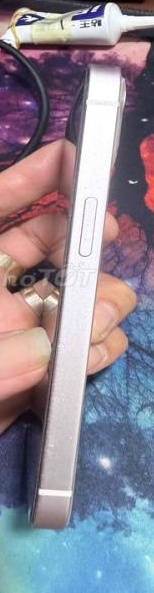scratch: (38, 321, 84, 520)
